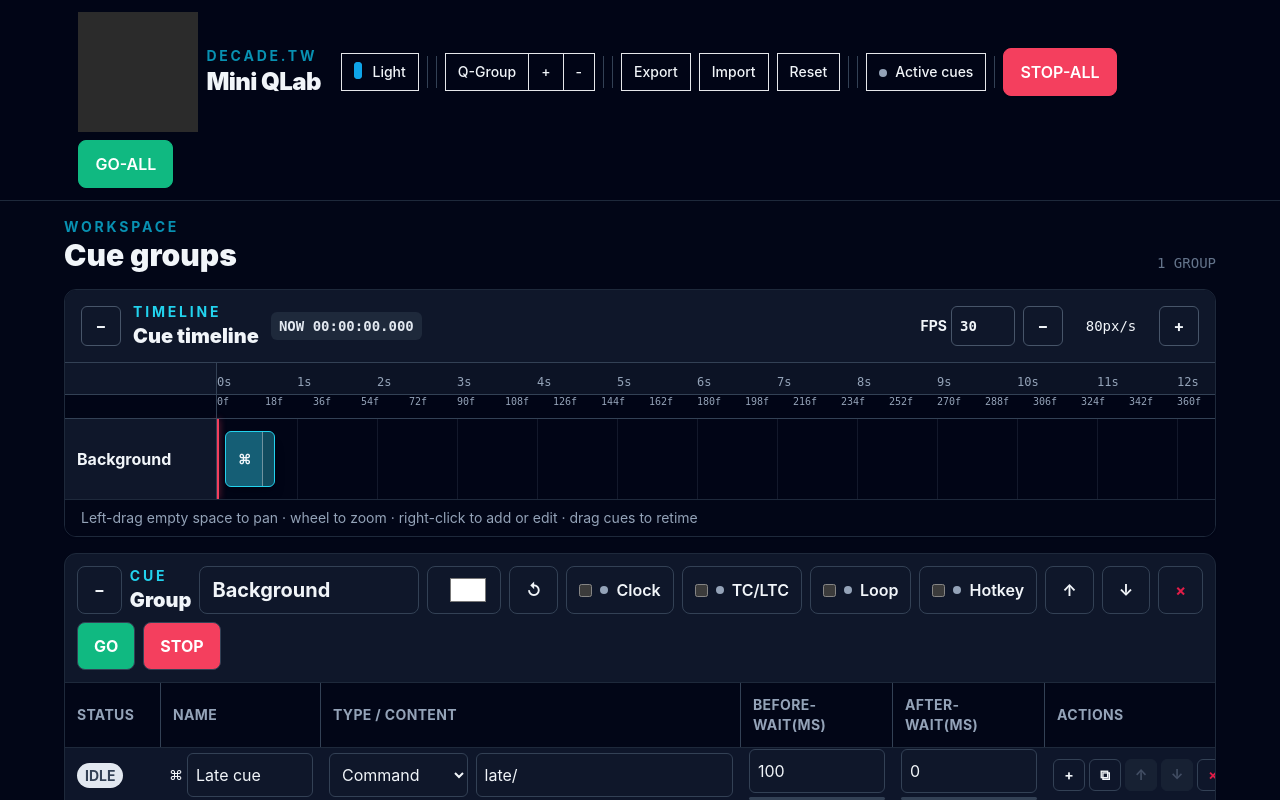
it: reconciles an overdue hidden-tab cue and logs a warning
Click the button with aria-label "GO Background": (106, 646) [77, 622, 135, 670]
(page scrolled)
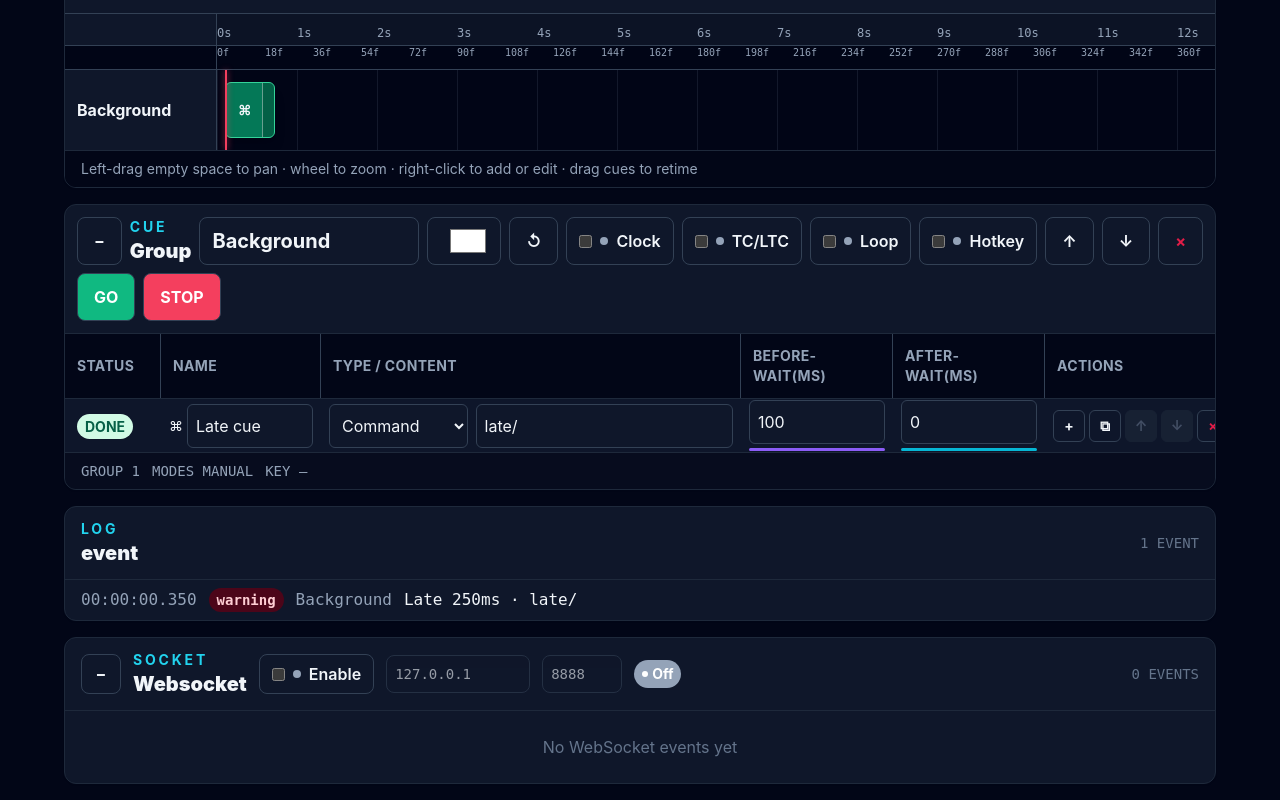
Now the list shows "warning", box [217, 592, 276, 608]
Now the list shows "Late 250ms · late/", box [404, 590, 577, 609]
